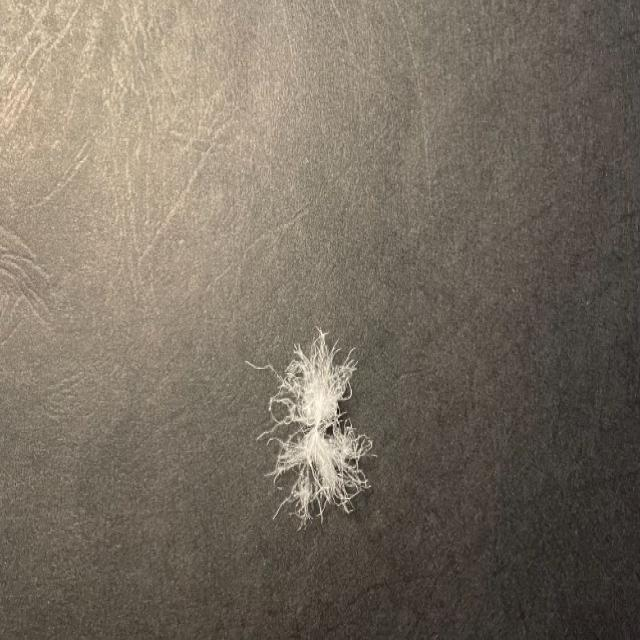feather: (241, 323, 377, 529)
